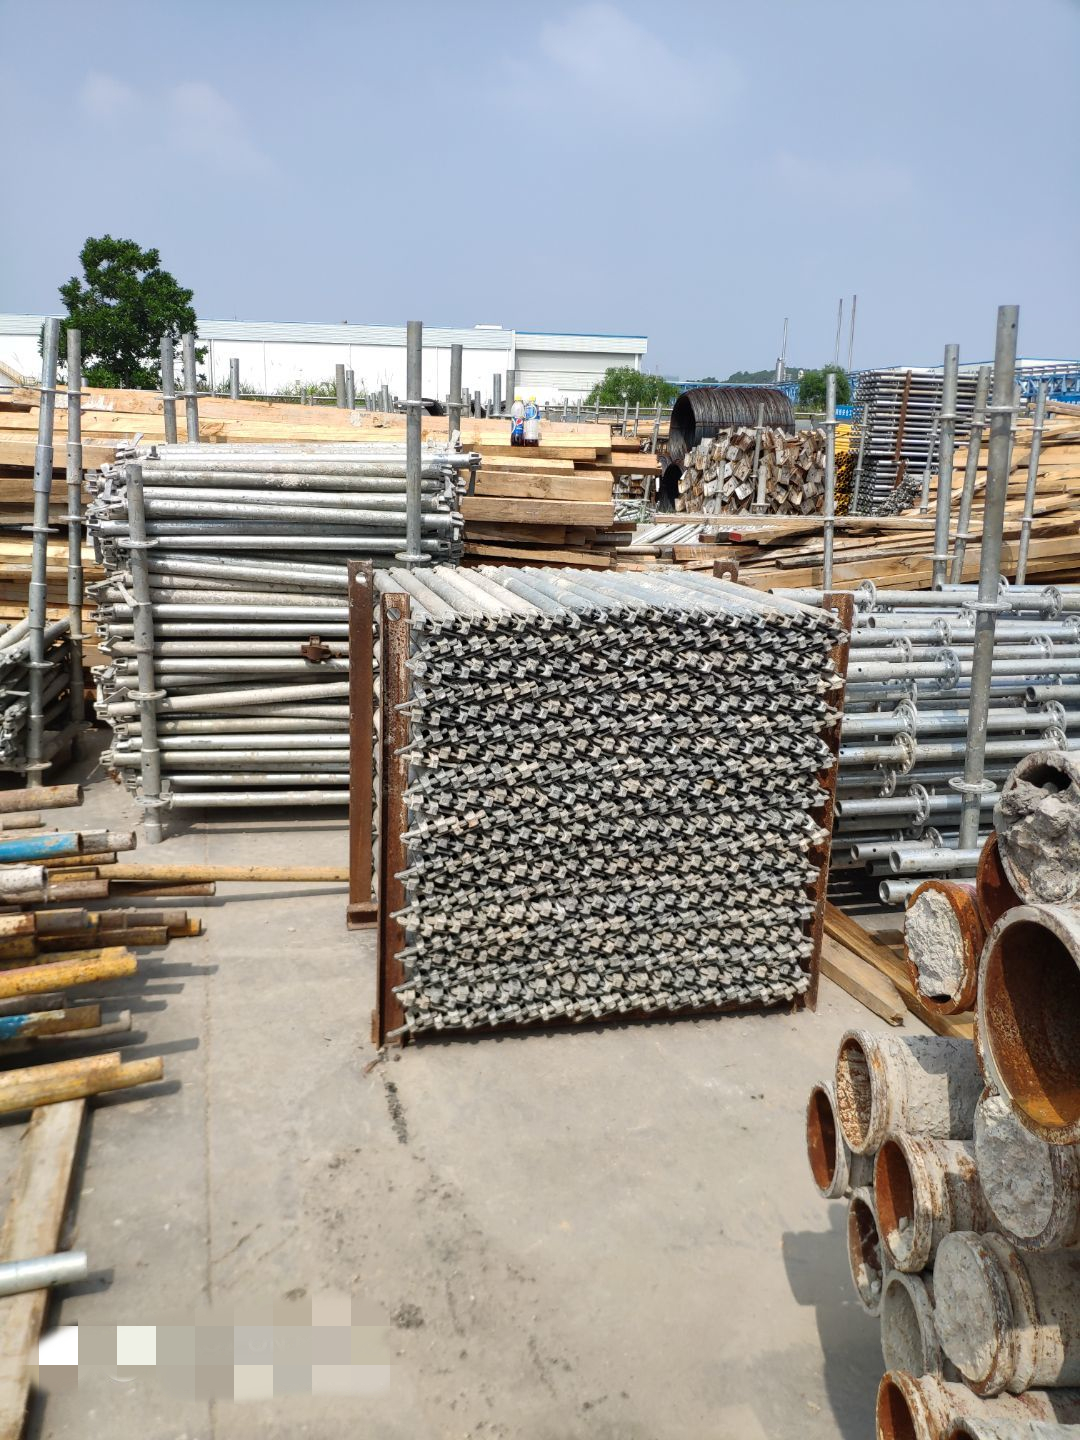rebar: (805, 786, 1080, 1439), (1, 794, 178, 1256)
scaffold: (379, 571, 817, 1034), (82, 448, 469, 814), (837, 581, 1075, 908)
wood: (17, 380, 613, 476), (489, 467, 618, 562)
